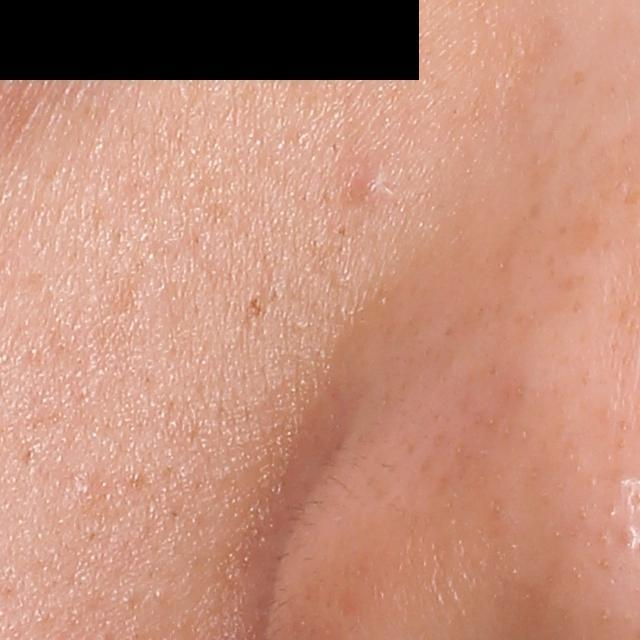papule: (350, 158, 393, 199)
